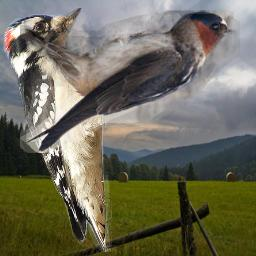Swallow: (20, 10, 240, 153)
Woodpecker: (3, 8, 112, 252)
